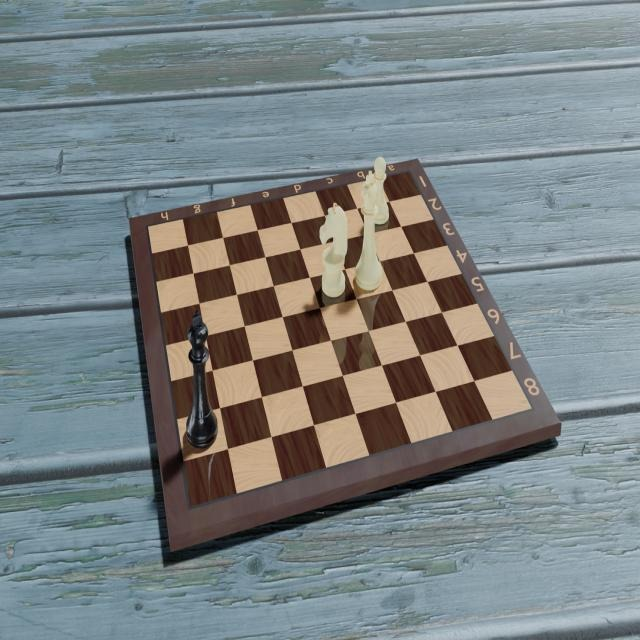black-king: (182, 305, 222, 451)
white-king: (354, 171, 386, 297)
white-knight: (316, 200, 348, 303)
white-pawn: (366, 151, 390, 227)
